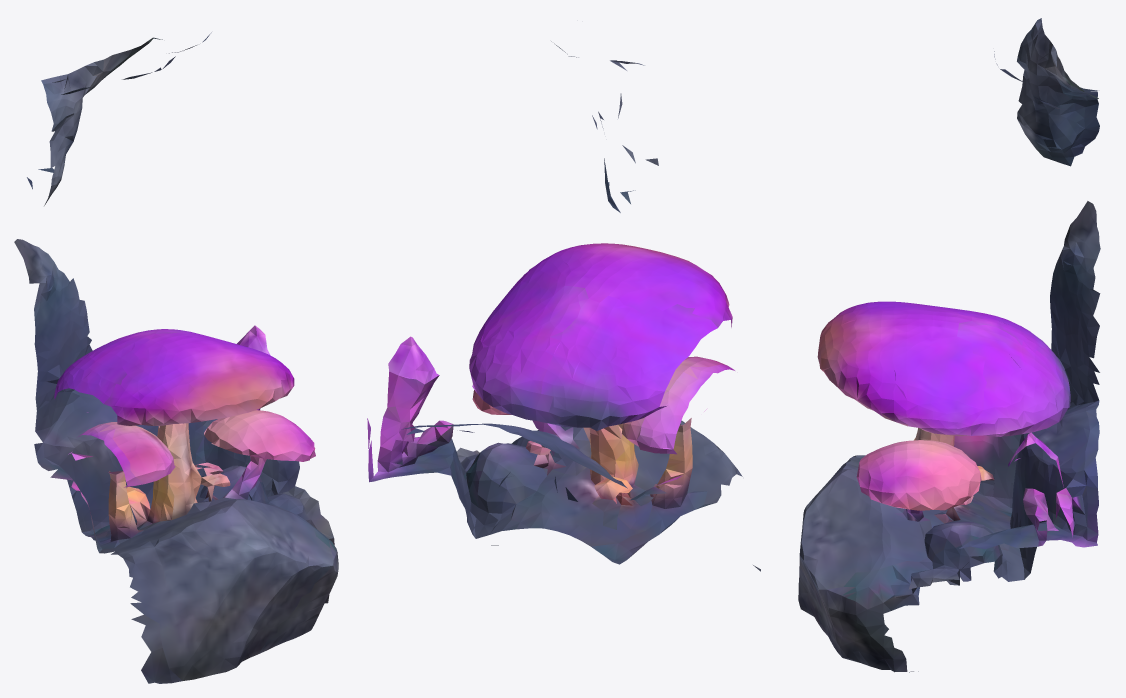
Rendered from cogumelo_rosa.glb.
3 renders of one model, left to right at view 1: azimuth 30°, elevation 25°; view 2: azimuth 150°, elevation 25°; view 3: azimuth 270°, elevation 25°, orthographic. The views are drawn at different scales.
Visible parts, largest first — view 1: plush; view 2: plush; view 3: plush.
Boxes of the visible parts, x1,y1,x2,y2 form: plush: [14, 32, 338, 683]; plush: [367, 41, 760, 571]; plush: [798, 18, 1100, 672].
Bounding box in the file's own units: 0.4407 × 0.98 × 0.4989.
1 material, 1 textured.
